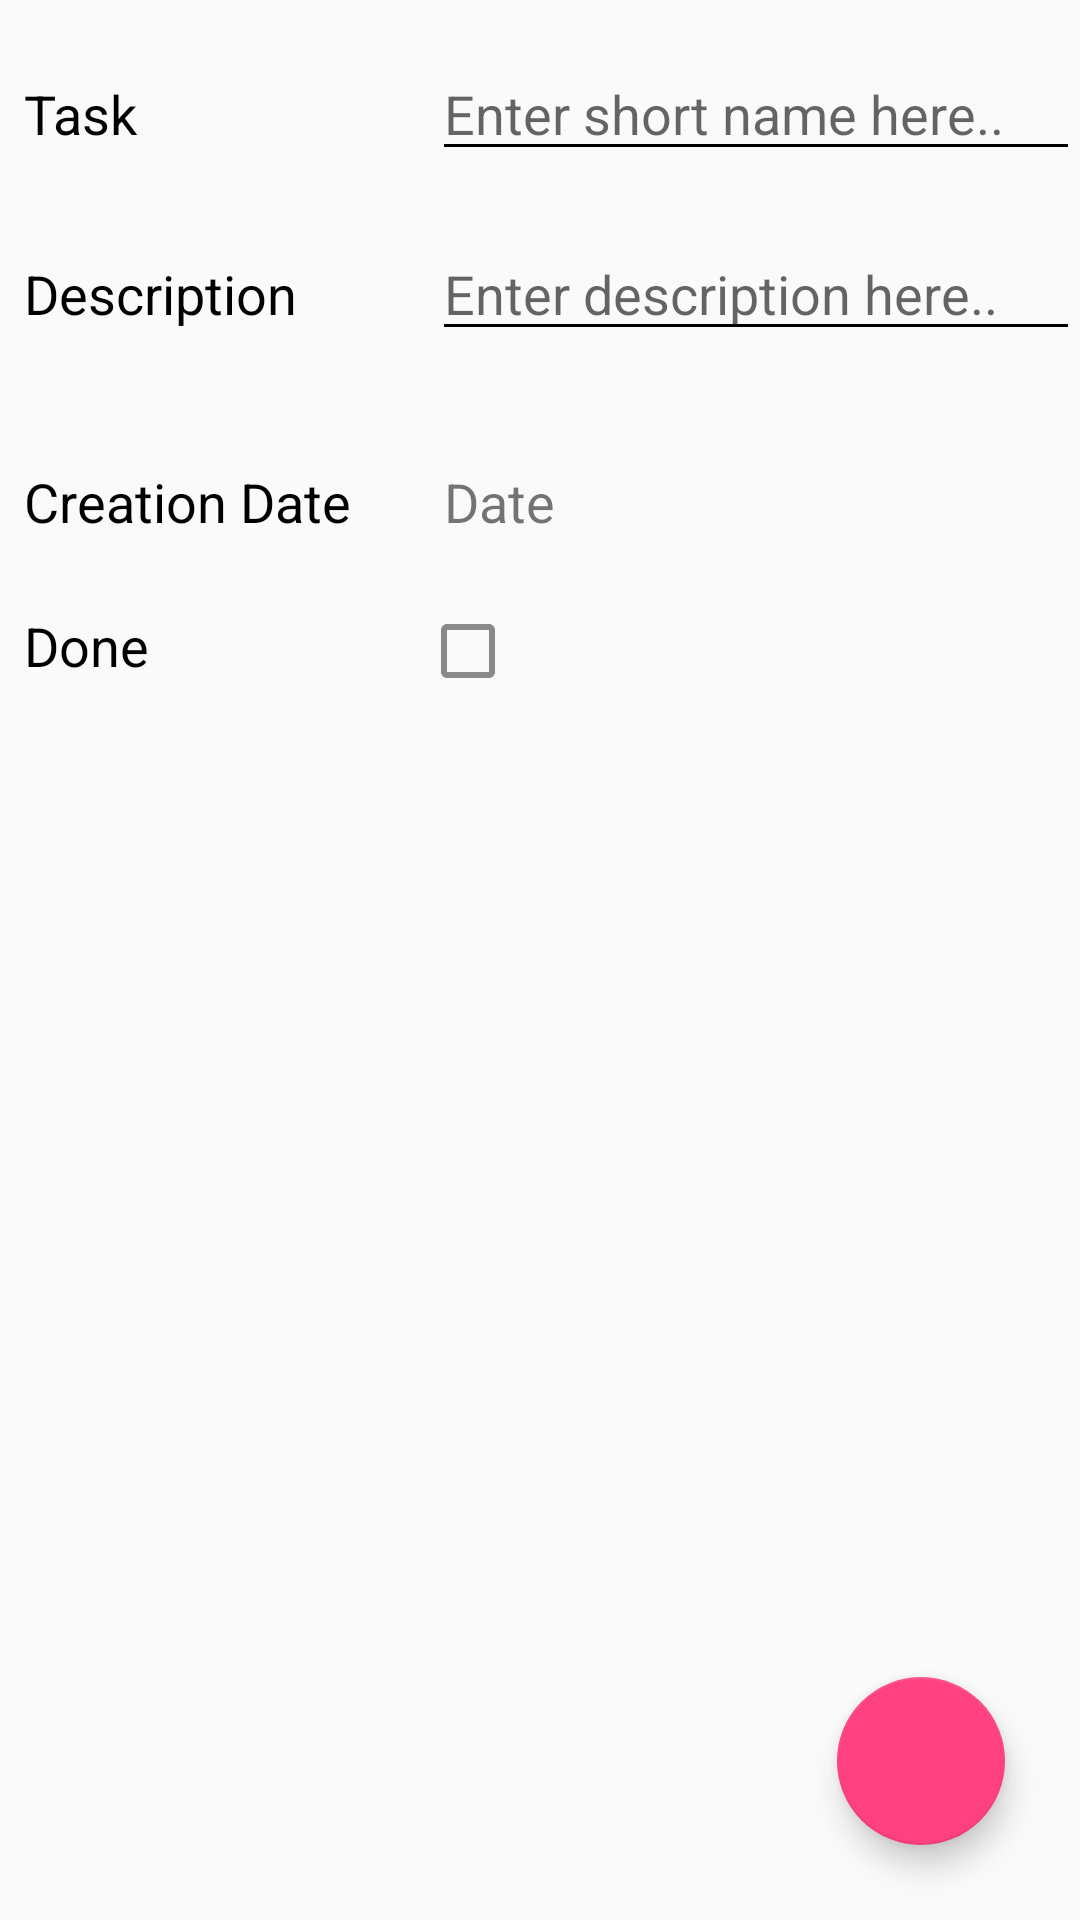

Where to tap for icons on this 1080w x 1920h app screen, as (x,y):
chechbox: (468,651)
